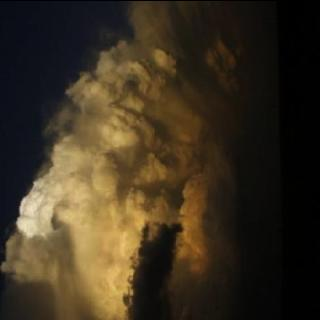Cumulonimbus: (0, 0, 306, 320)
